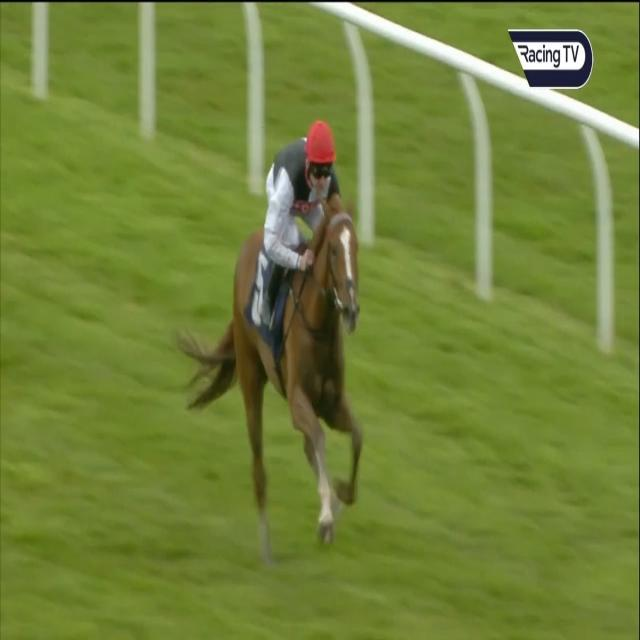horses-racing: (216, 120, 377, 542)
